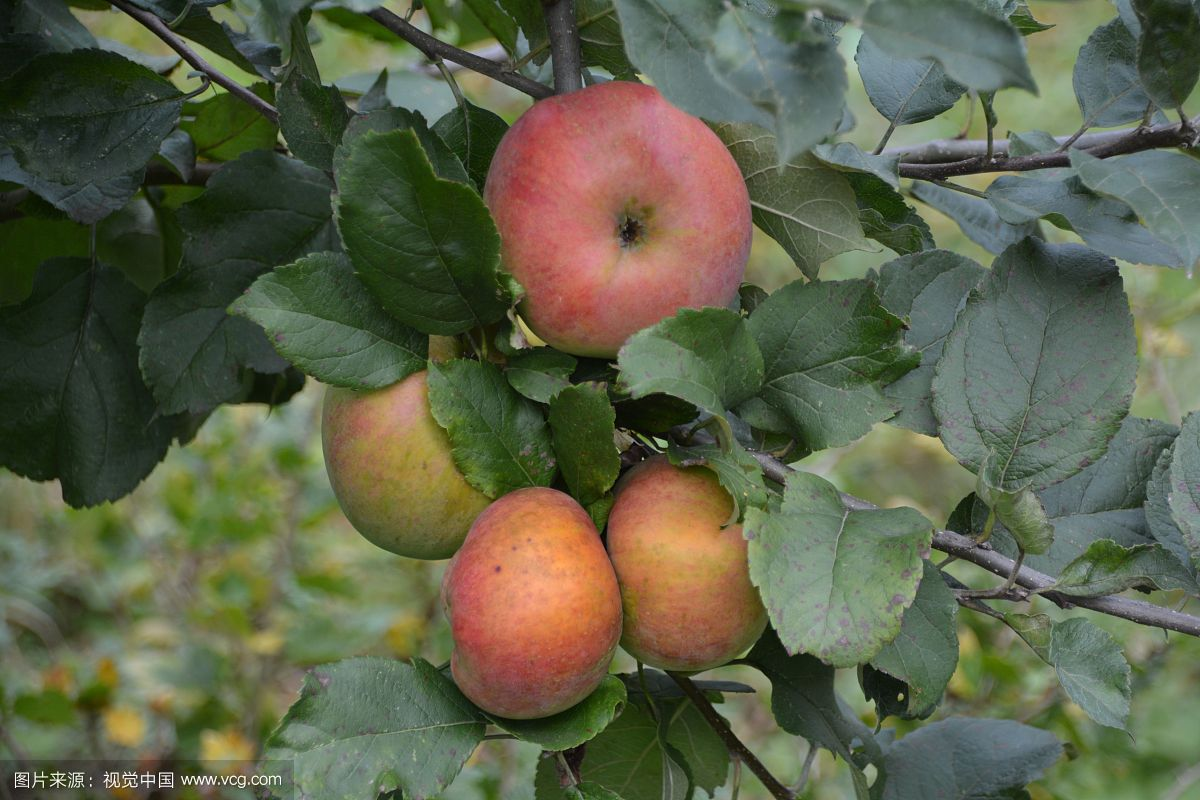apple: (483, 83, 750, 353), (446, 487, 616, 721)
obscured(1)_apple: (604, 457, 778, 668)
obscured(3)_apple: (322, 325, 521, 557)
